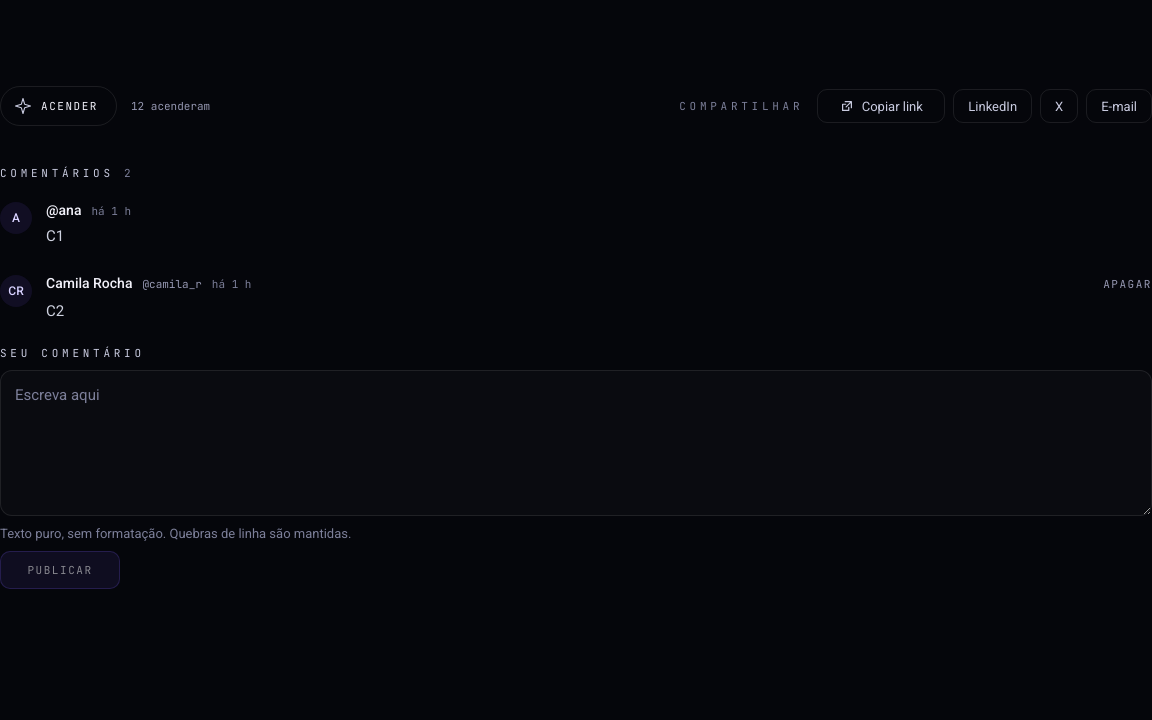
Test case: fim de artigo, logado › apagar pede confirmação com o foco em CANCELAR, e tira da lista
The image size is (1152, 720).
Click the button with aria-label "Apagar seu comentário".
click(1128, 284)  # box [1103, 275, 1151, 293]
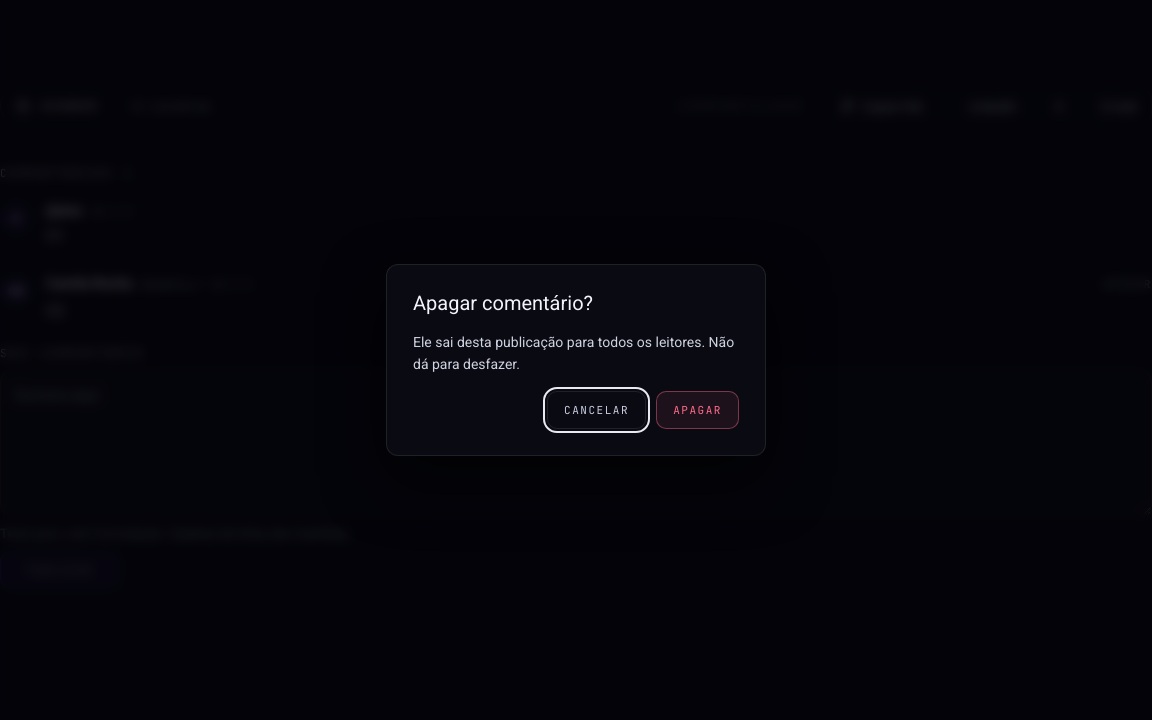
Click the button "APAGAR".
click(698, 410)  # box [656, 391, 739, 429]
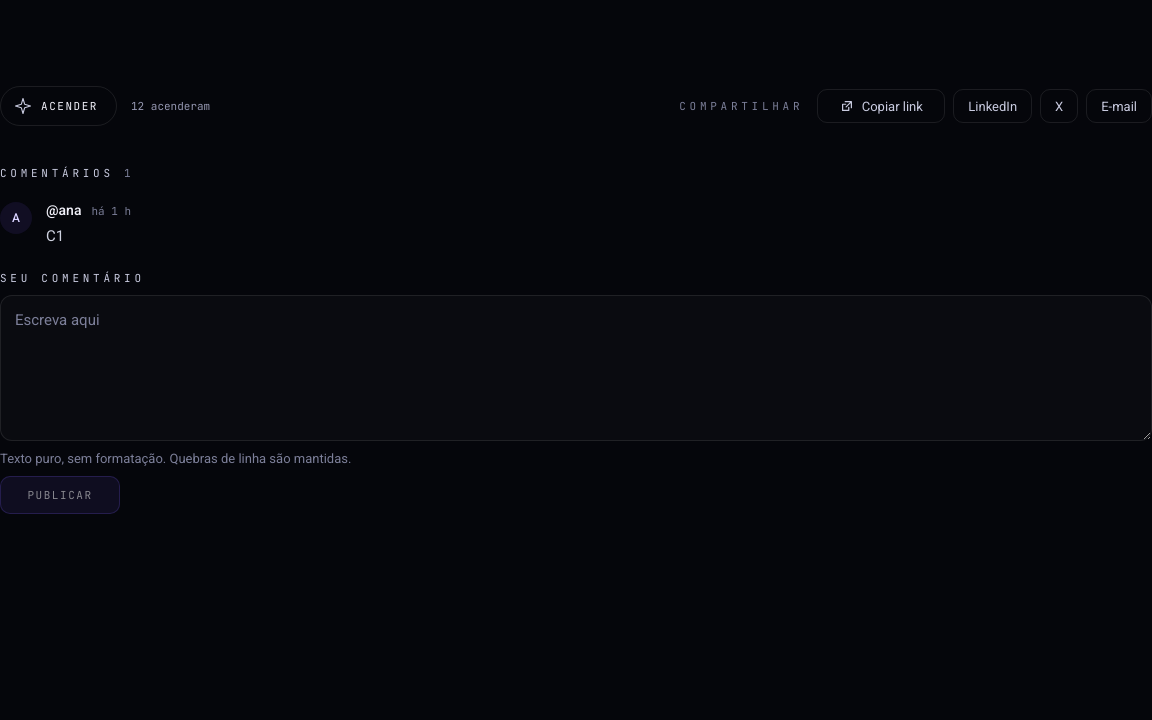
Expected: the heading "COMENTÁRIOS 1" is shown, [0, 166, 134, 180]
Now the text "C2" is gone
